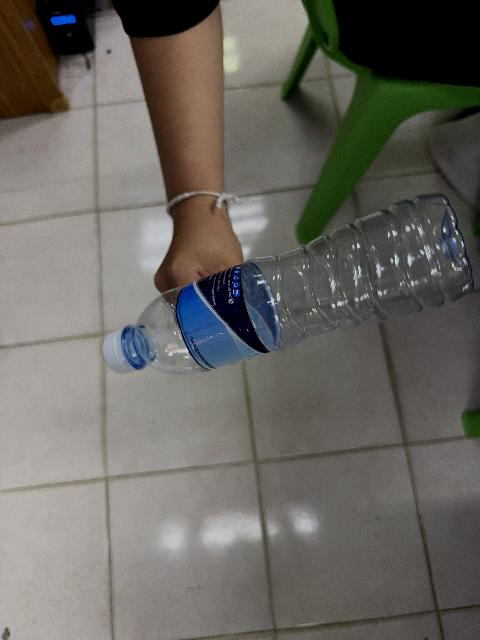bottle: (104, 195, 473, 373)
